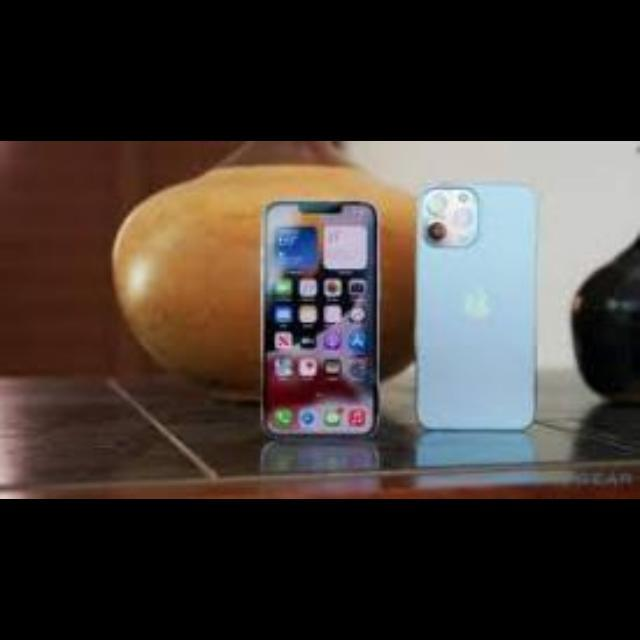Phone: (414, 183, 536, 429), (260, 198, 382, 442)
